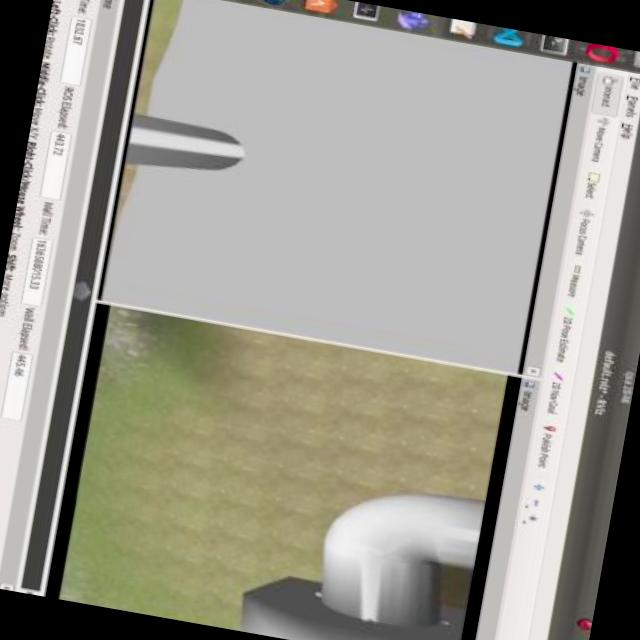gas: (306, 472, 484, 638), (124, 108, 246, 187)
